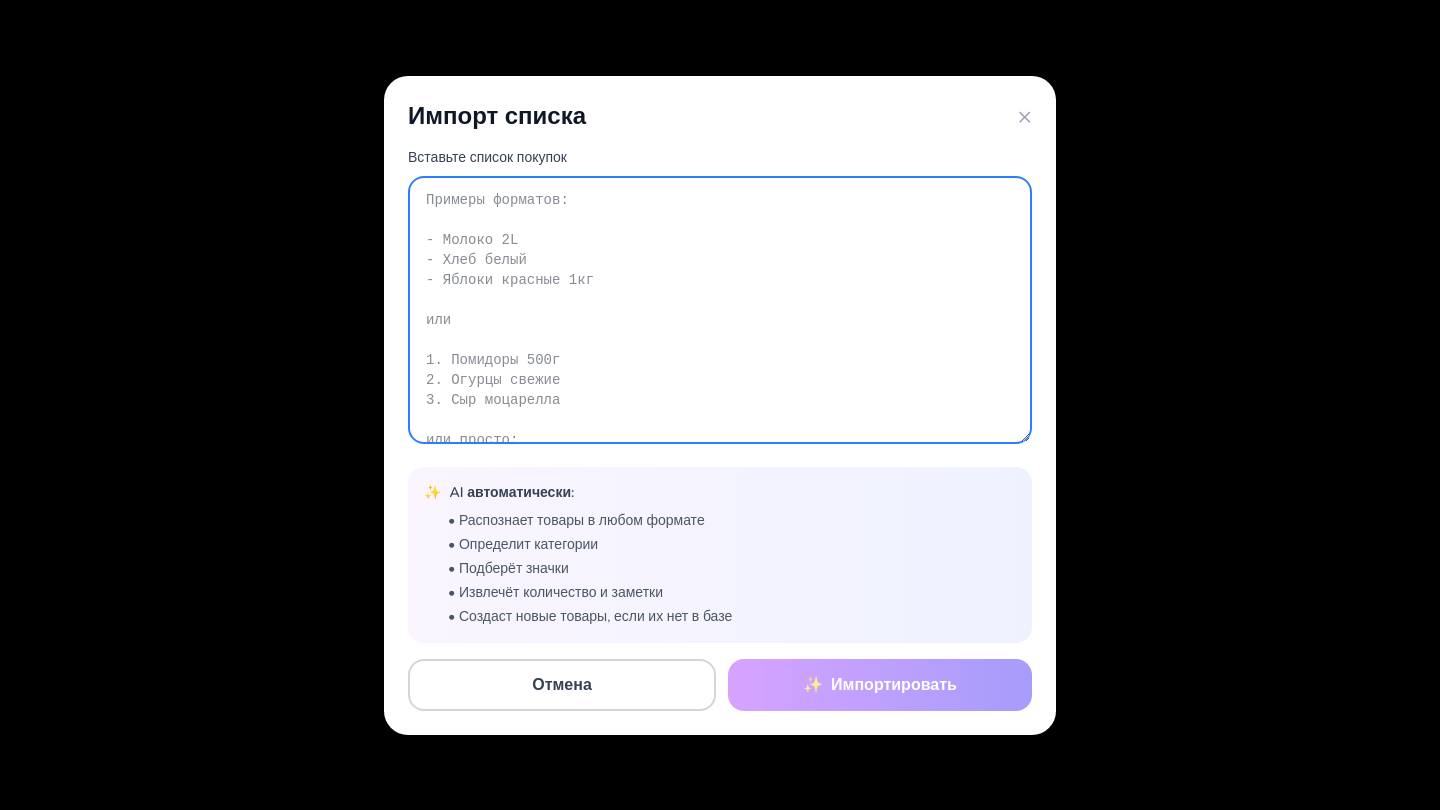
it: import list from text, as the shopper sees it › shows the imported product in the open list without a reload
Replace the text in the text box labelled "Вставьте список покупок" with "Молоко" at point(720, 310), box [408,176,1032,444]
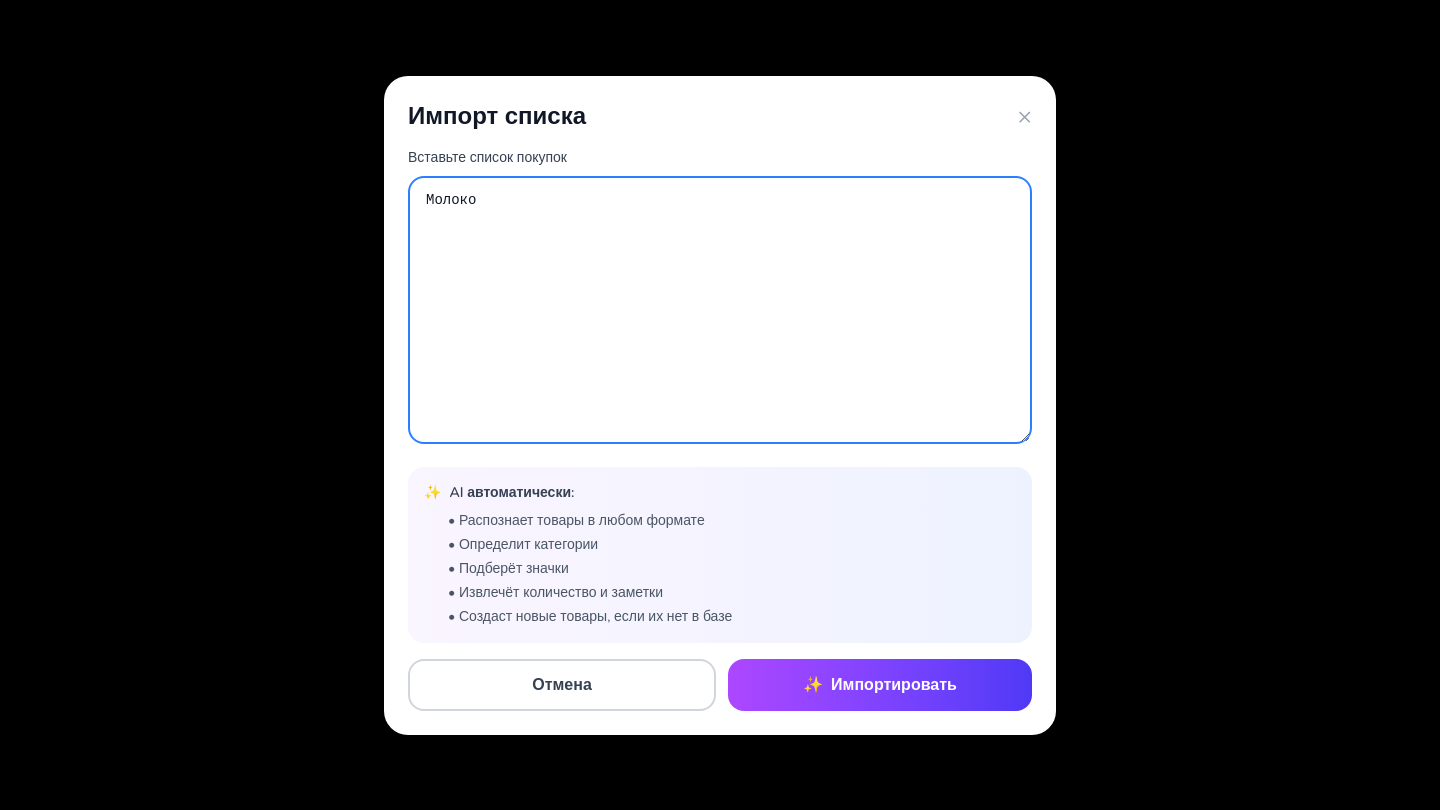
Click the button "✨ Импортировать" at point(880, 684), box [728,658,1032,710]
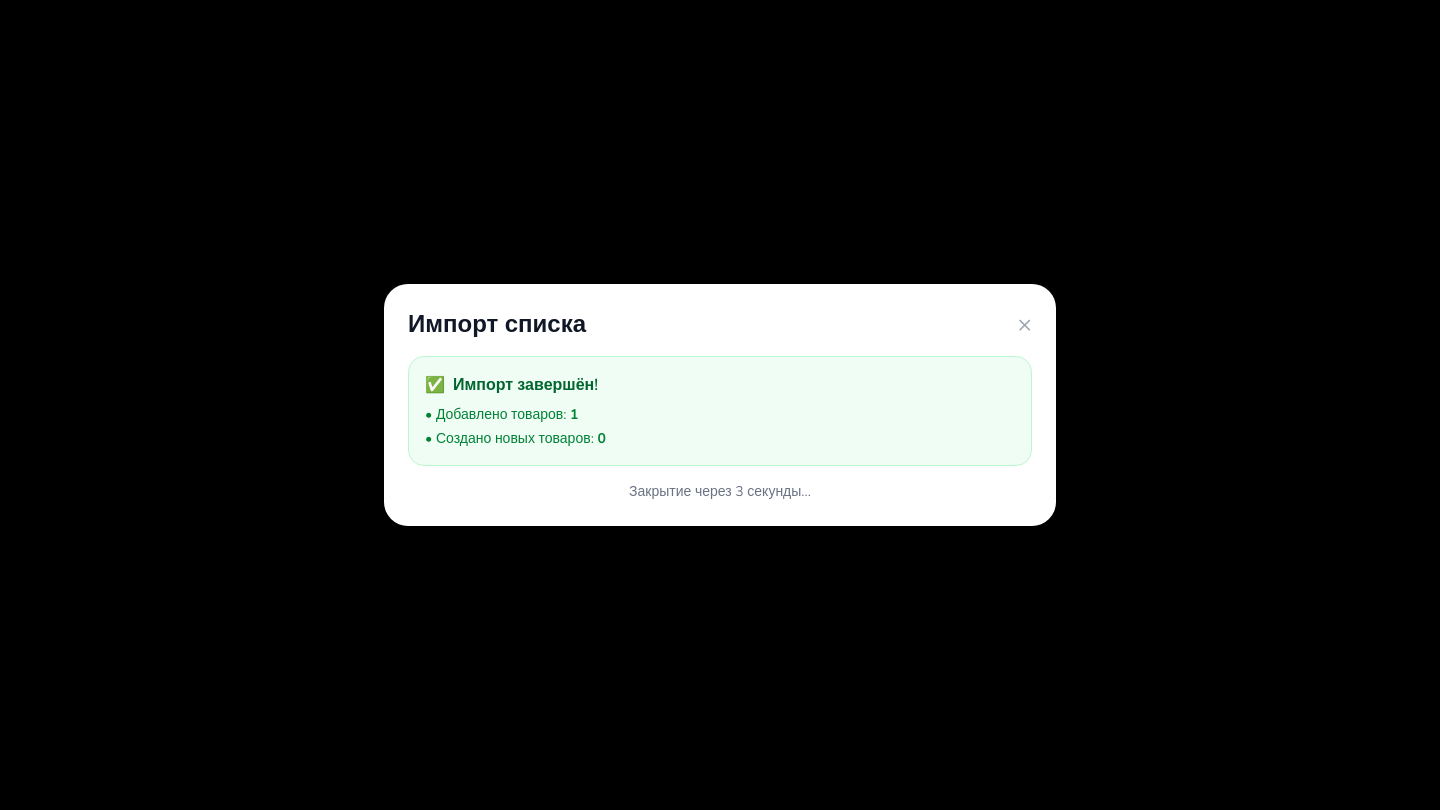
Expected: the text "Импорт завершён!" is shown, [453,373,598,397]
